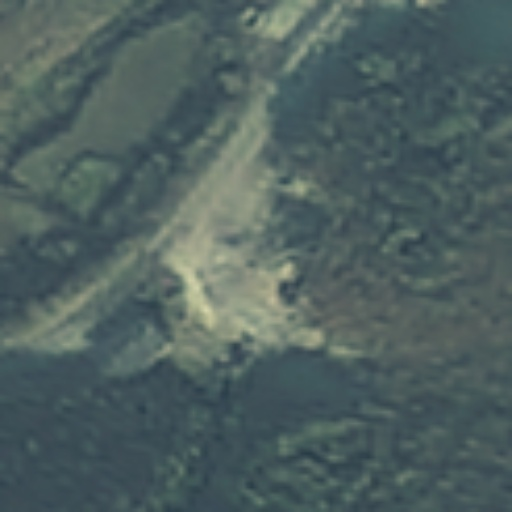landslide: (175, 172, 306, 343)
